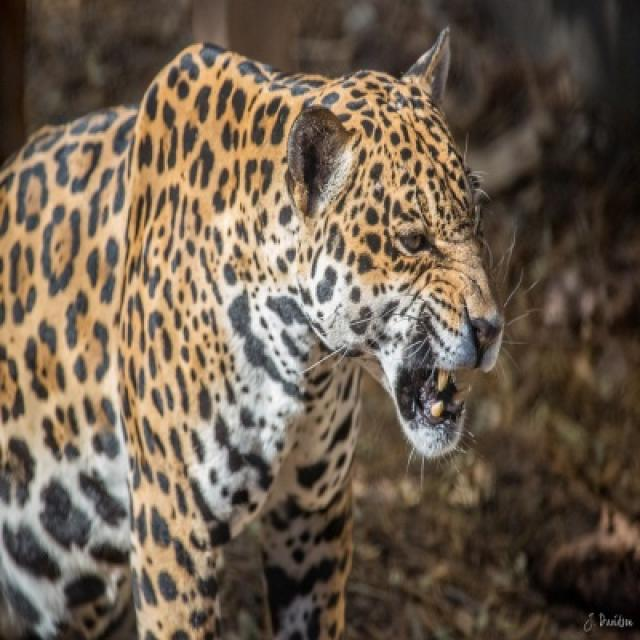Jaguar: (0, 29, 504, 638)
